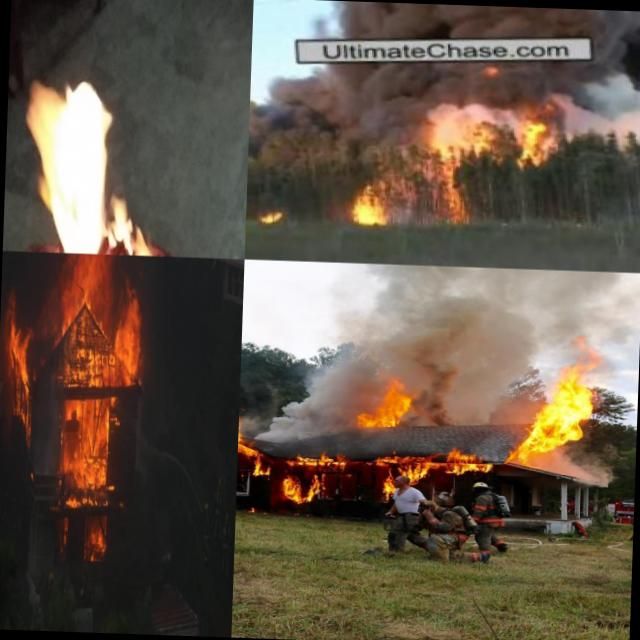fire: (20, 41, 194, 257), (498, 358, 596, 471), (62, 388, 109, 491), (63, 314, 114, 394), (274, 452, 350, 502), (373, 447, 491, 477), (360, 370, 418, 431), (112, 305, 144, 393), (343, 183, 394, 229), (510, 110, 548, 166), (0, 312, 30, 378), (236, 428, 274, 480), (11, 386, 32, 437), (85, 520, 106, 562), (258, 200, 290, 226), (60, 516, 70, 550), (28, 468, 36, 484), (513, 457, 514, 458)
smoke: (413, 265, 537, 423), (253, 66, 511, 122), (532, 268, 640, 363), (315, 262, 420, 356), (265, 351, 368, 446), (545, 67, 640, 146), (277, 115, 429, 148), (526, 450, 622, 498)
